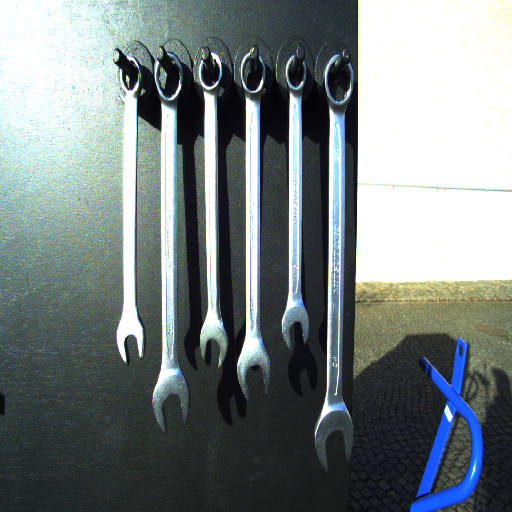bottom: (312, 408, 353, 470), (234, 345, 273, 402), (151, 374, 189, 432), (199, 320, 229, 369), (279, 306, 311, 350), (116, 316, 145, 364)
top: (322, 53, 355, 107), (151, 51, 184, 102), (239, 51, 268, 97), (117, 55, 145, 95), (197, 51, 224, 92), (283, 52, 308, 91)
